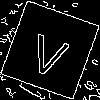V: (25, 25, 74, 80)
